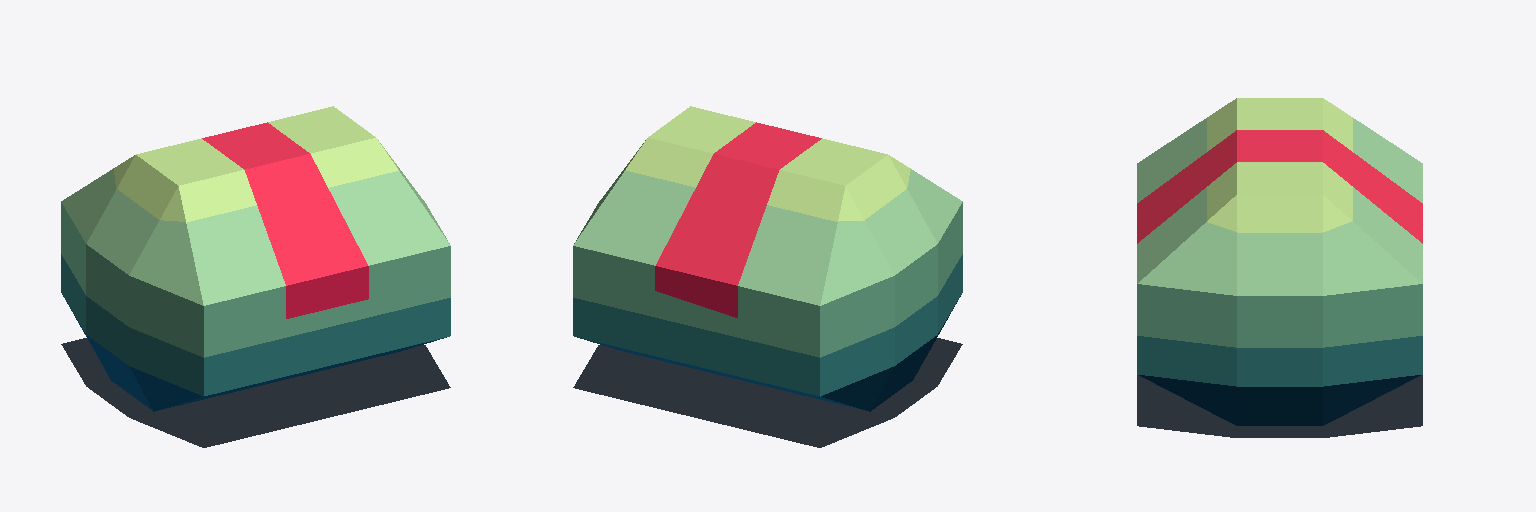
The picture shows the model from 3 angles: view 1: azimuth 30°, elevation 25°; view 2: azimuth 150°, elevation 25°; view 3: azimuth 270°, elevation 25°; orthographic projection.
Visible parts, largest first — view 1: Cube; view 2: Cube; view 3: Cube.
Part boxes in pixels (x1,y1,x2,y2): Cube: (61, 106, 450, 447); Cube: (573, 106, 962, 447); Cube: (1137, 98, 1422, 437).
Bounding box in the file's own units: 2.4 × 1.7 × 2.
Materials: 1 (1 with a texture image).